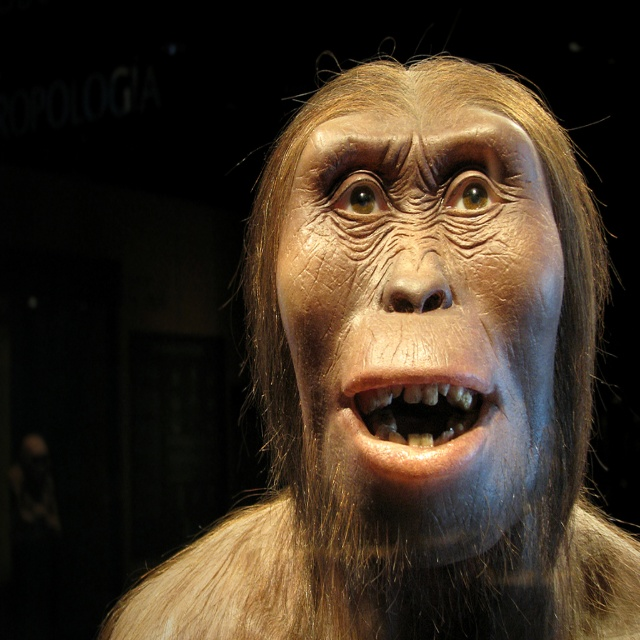Monkey: (105, 50, 639, 639)
